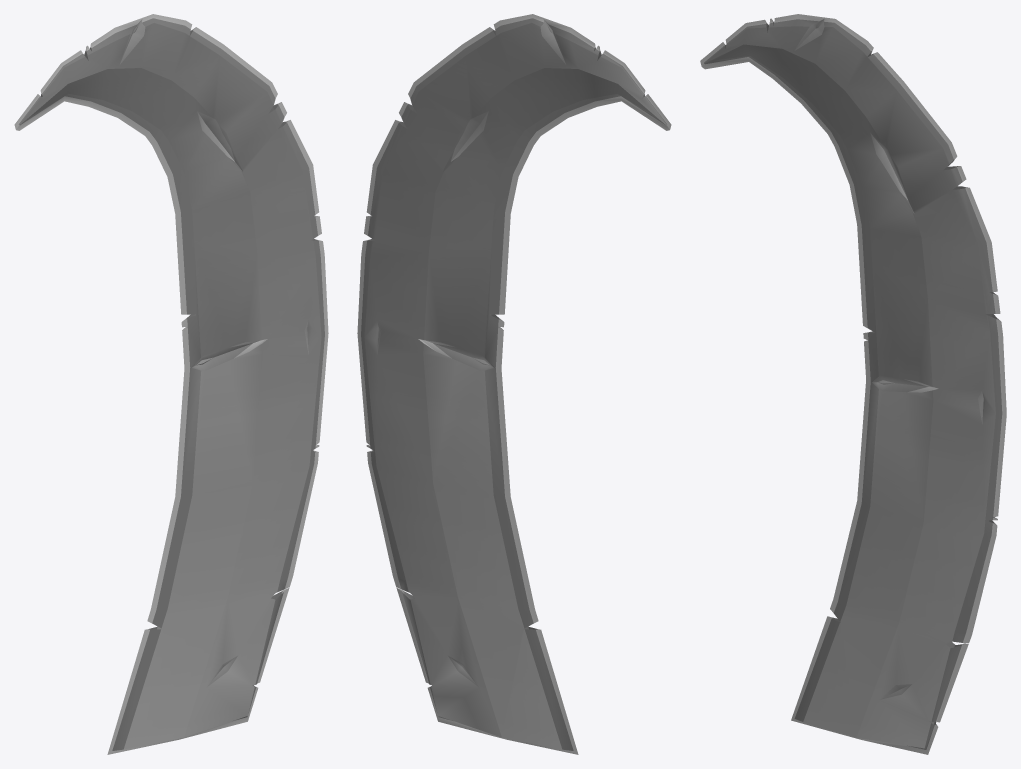
File: stone_blade_scratched_044.glb
3 views of the same model, side by side, from view 1: azimuth 30°, elevation 25°; view 2: azimuth 150°, elevation 25°; view 3: azimuth 330°, elevation 25° (orthographic). The views are drawn at different scales.
Visible parts, largest first — view 1: stone_blade_scratched.044; view 2: stone_blade_scratched.044; view 3: stone_blade_scratched.044.
Part boxes in pixels (x1,y1,x2,y2): stone_blade_scratched.044: [14, 14, 328, 754]; stone_blade_scratched.044: [357, 14, 671, 754]; stone_blade_scratched.044: [700, 14, 1006, 754].
Bounding box in the file's own units: 4.65 × 10.35 × 0.241.
1 material, 1 textured.
